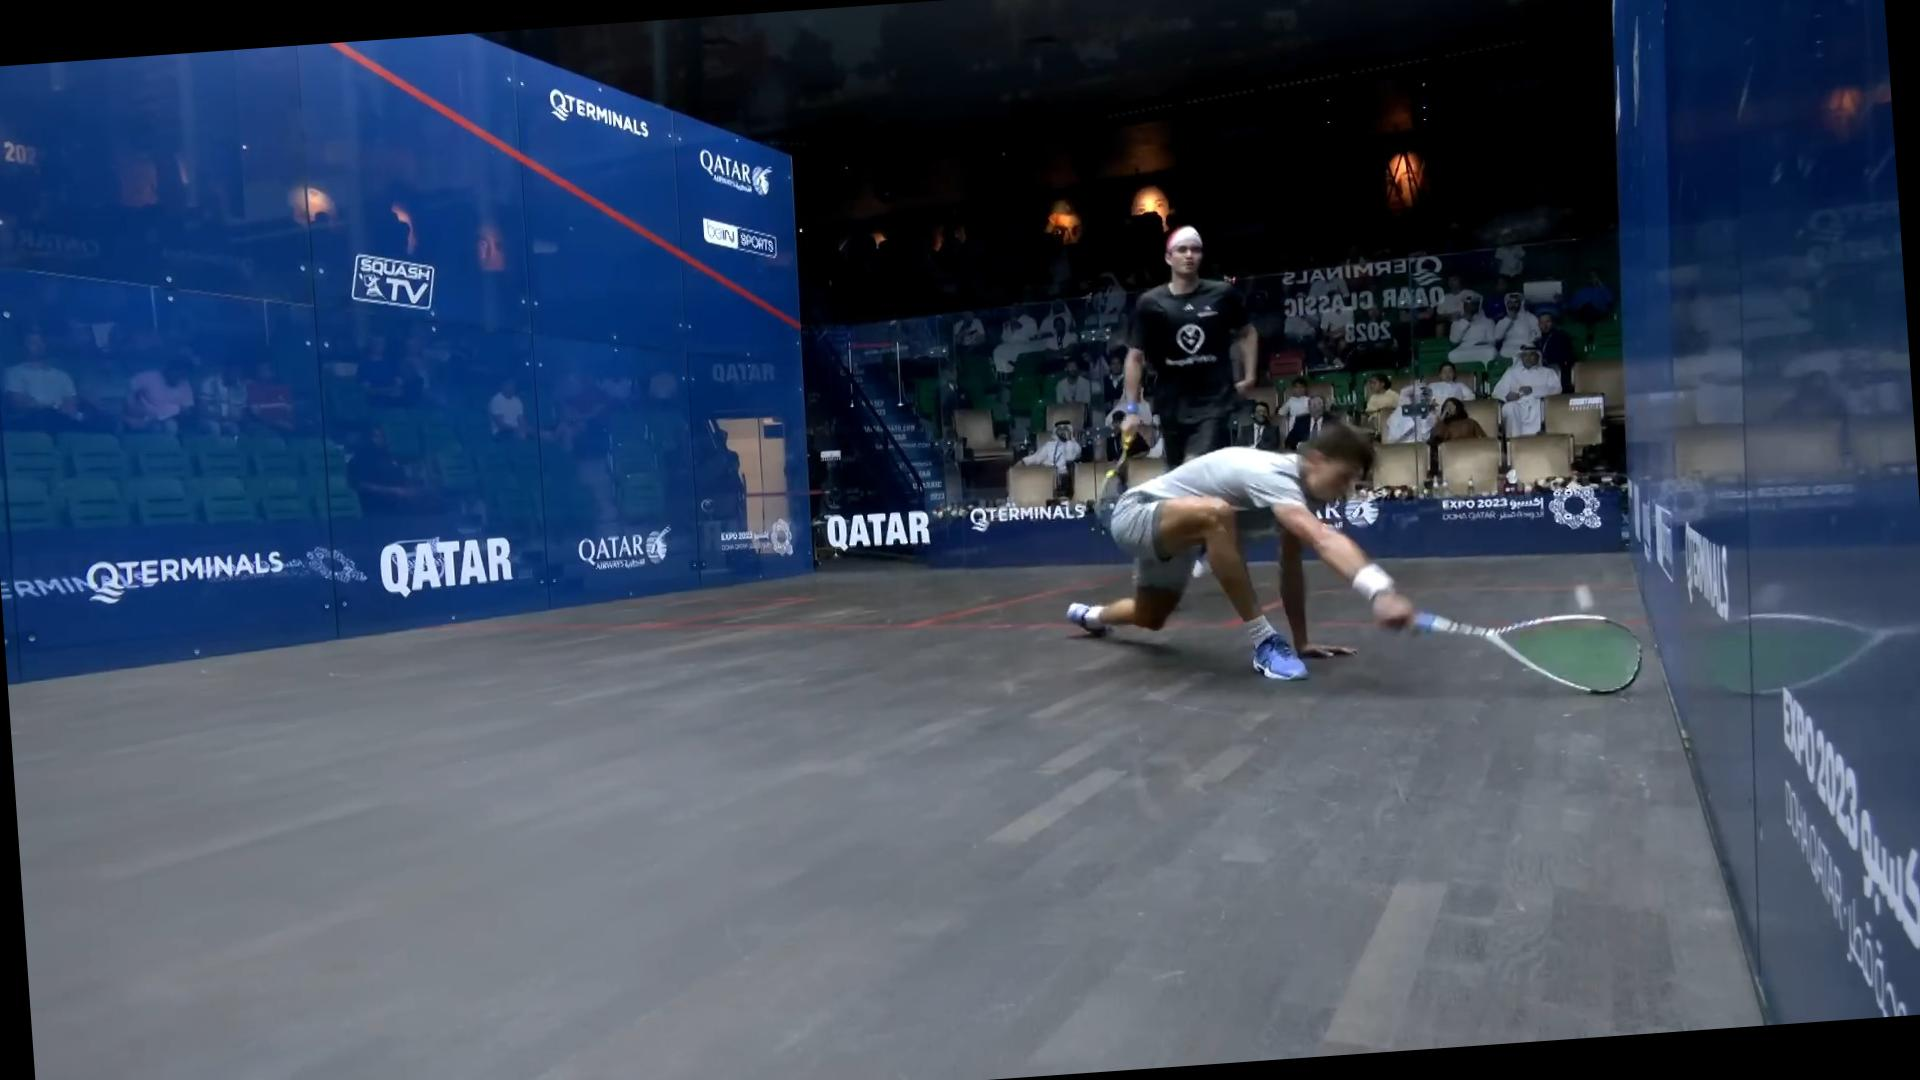Racket: (1411, 585, 1651, 705)
